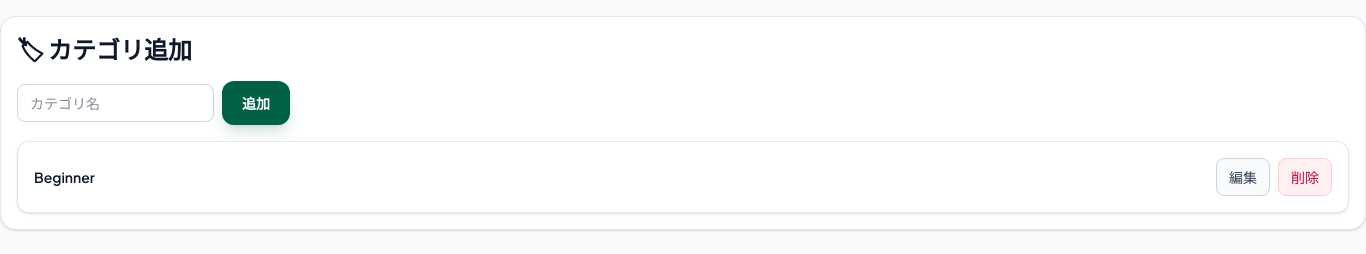
Scenario: CategoryManager › updates a category
Click the button "編集" at (1243, 177), box [1216, 158, 1270, 196]
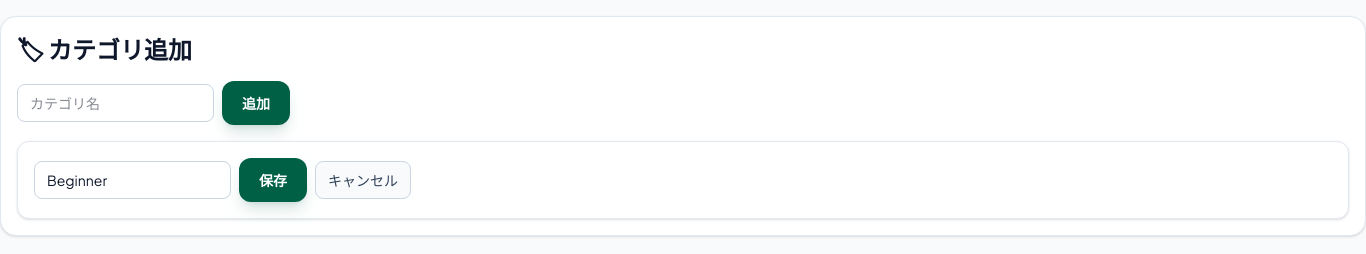
Replace the text in the 2nd field with "Middle" at (132, 180), box [34, 161, 231, 199]
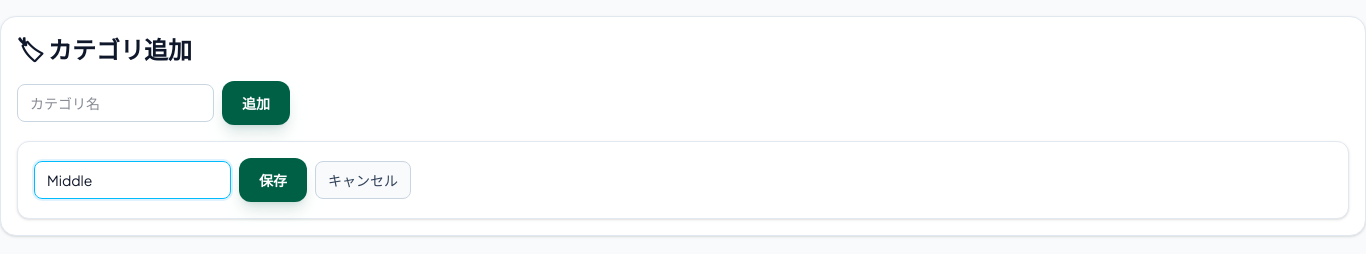
Click the button "保存" at (273, 180), box [239, 158, 307, 202]
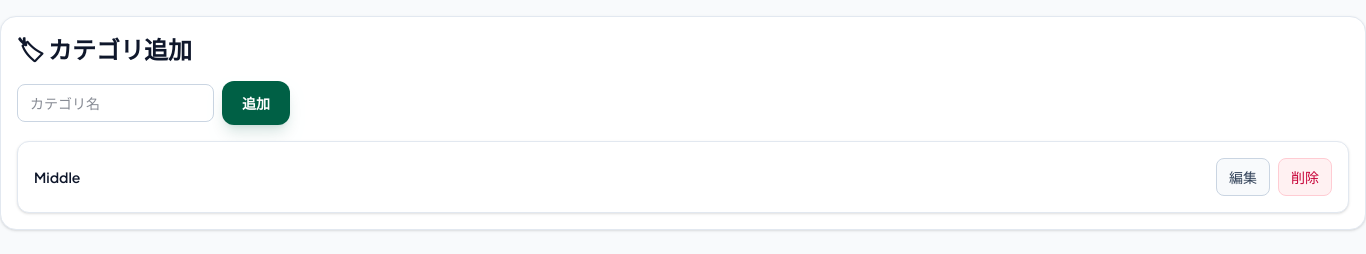
Expected: the text "Middle" is shown, [34, 167, 80, 187]
